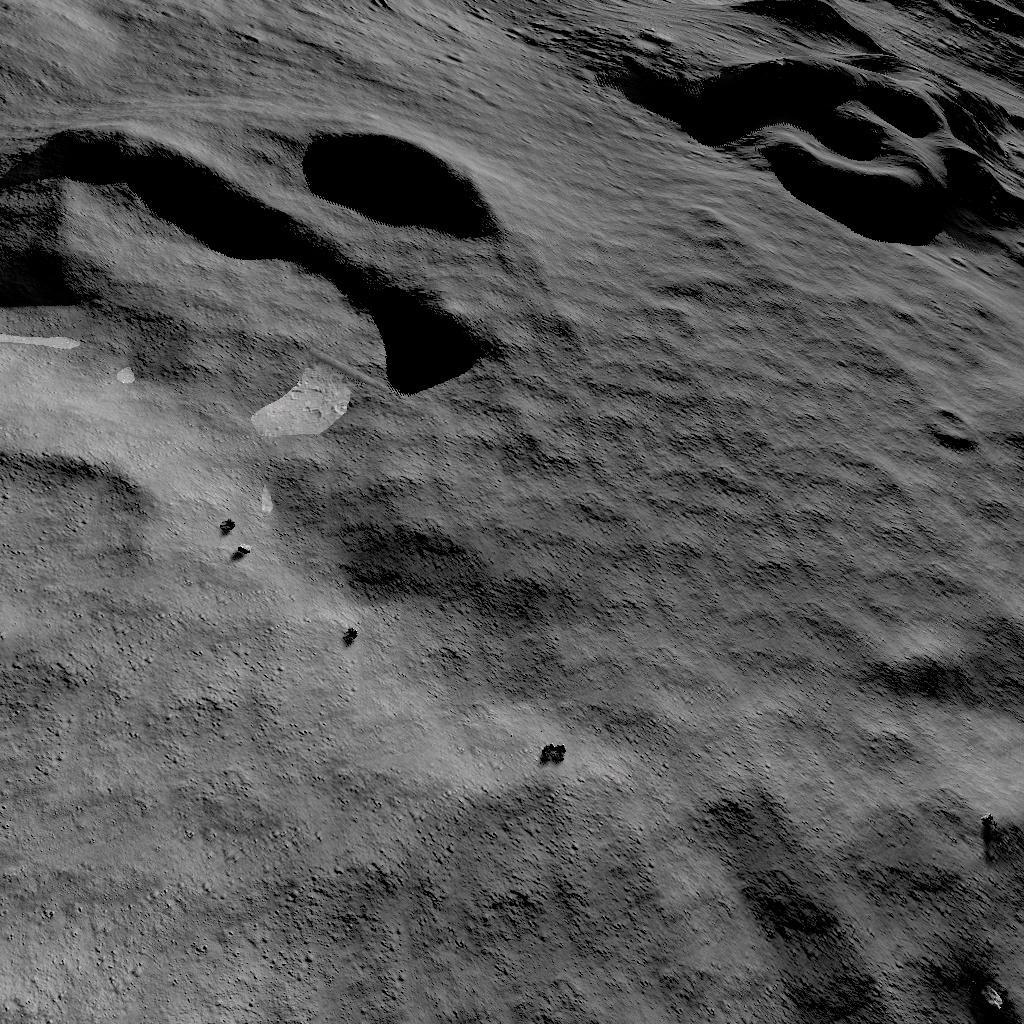Crater: (0, 100, 522, 420), (577, 0, 1024, 263), (0, 452, 168, 649), (919, 412, 986, 460)
Plan surface: (7, 668, 524, 1024), (591, 287, 909, 806), (547, 820, 893, 1024)
